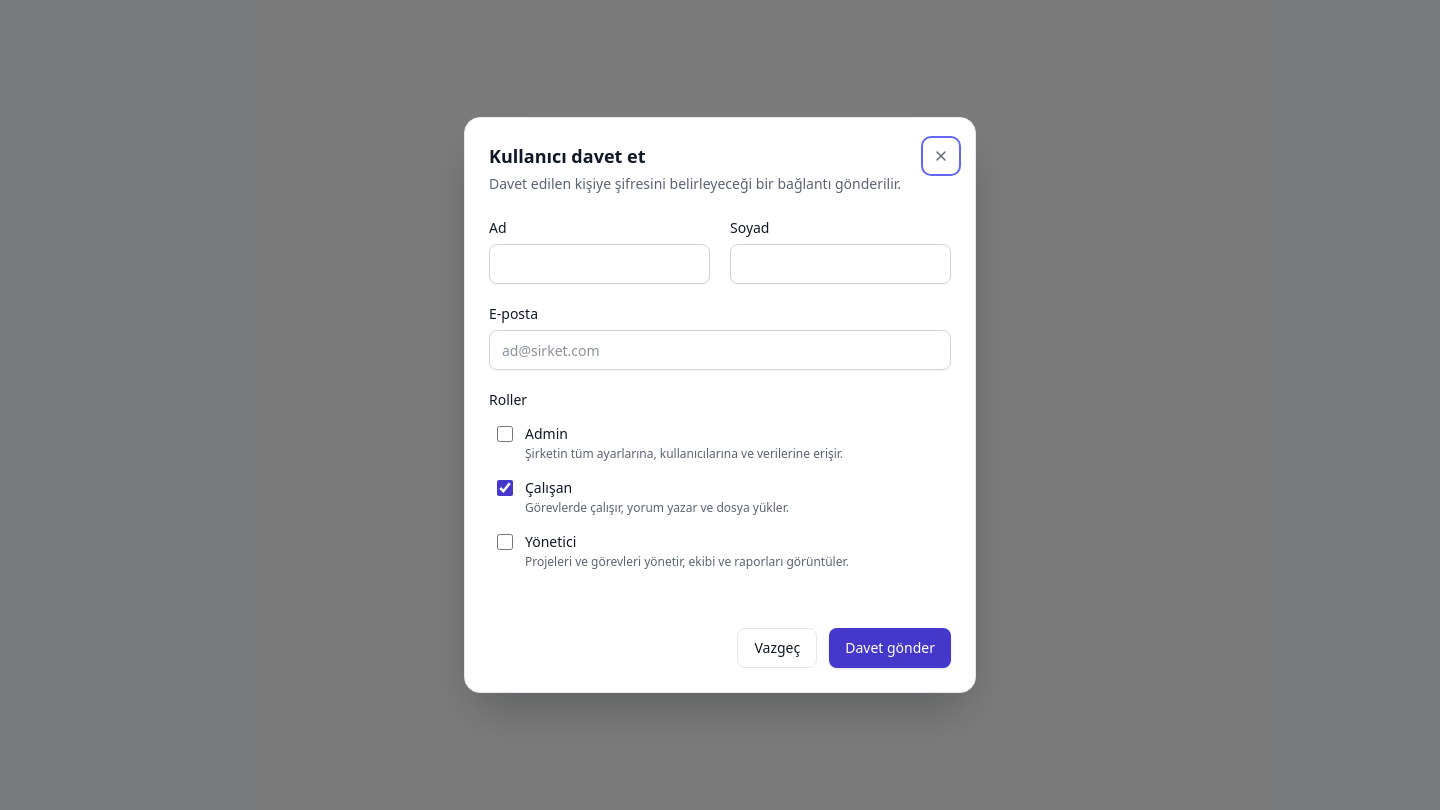
Test: InviteUserDialog › explains why an unverified inviter cannot invite
This screenshot has width=1440, height=810.
Type "Ayşe" into the field labelled "Ad" at (600, 264), box [489, 244, 710, 284]
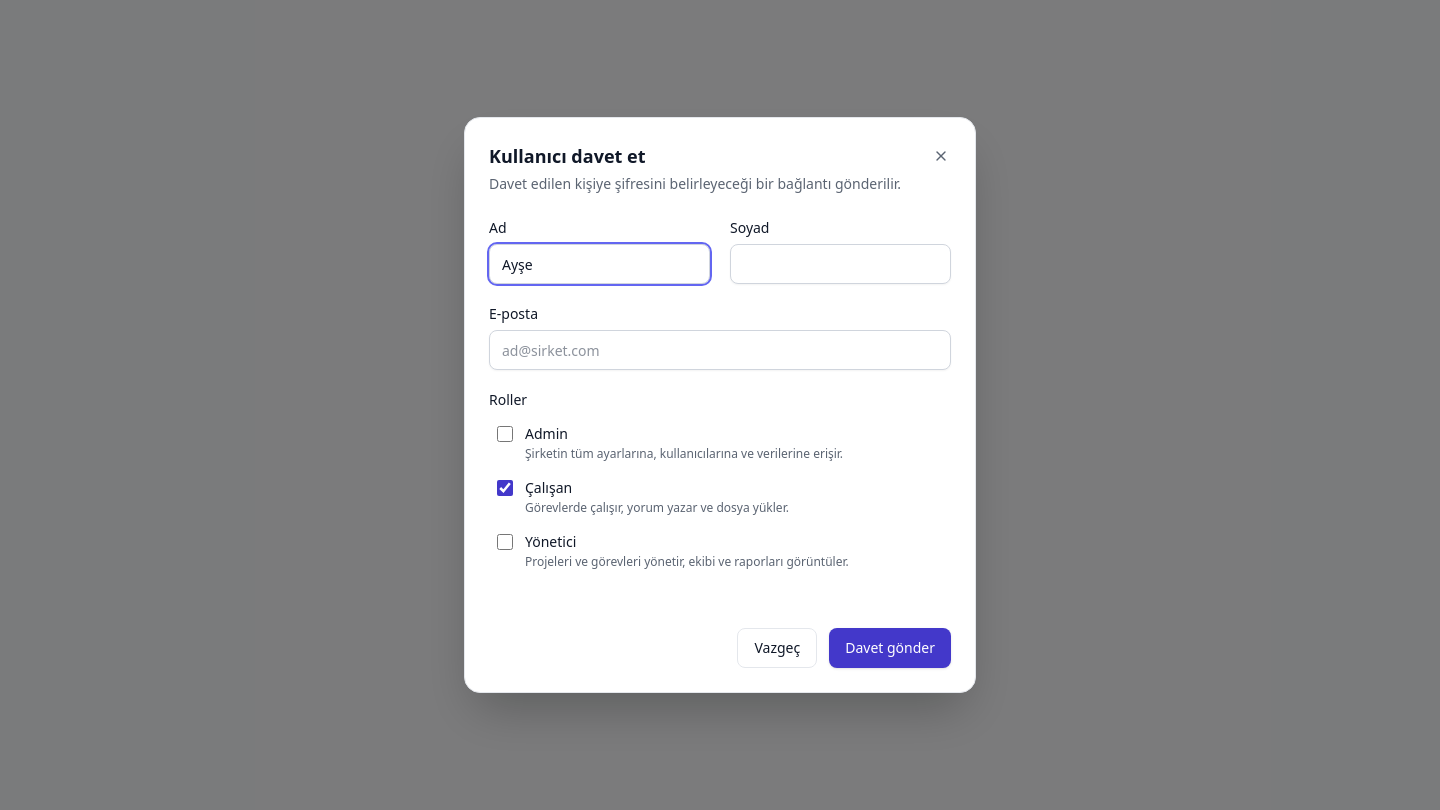
Type "Yılmaz" into the field labelled "Soyad" at (840, 264), box [730, 244, 951, 284]
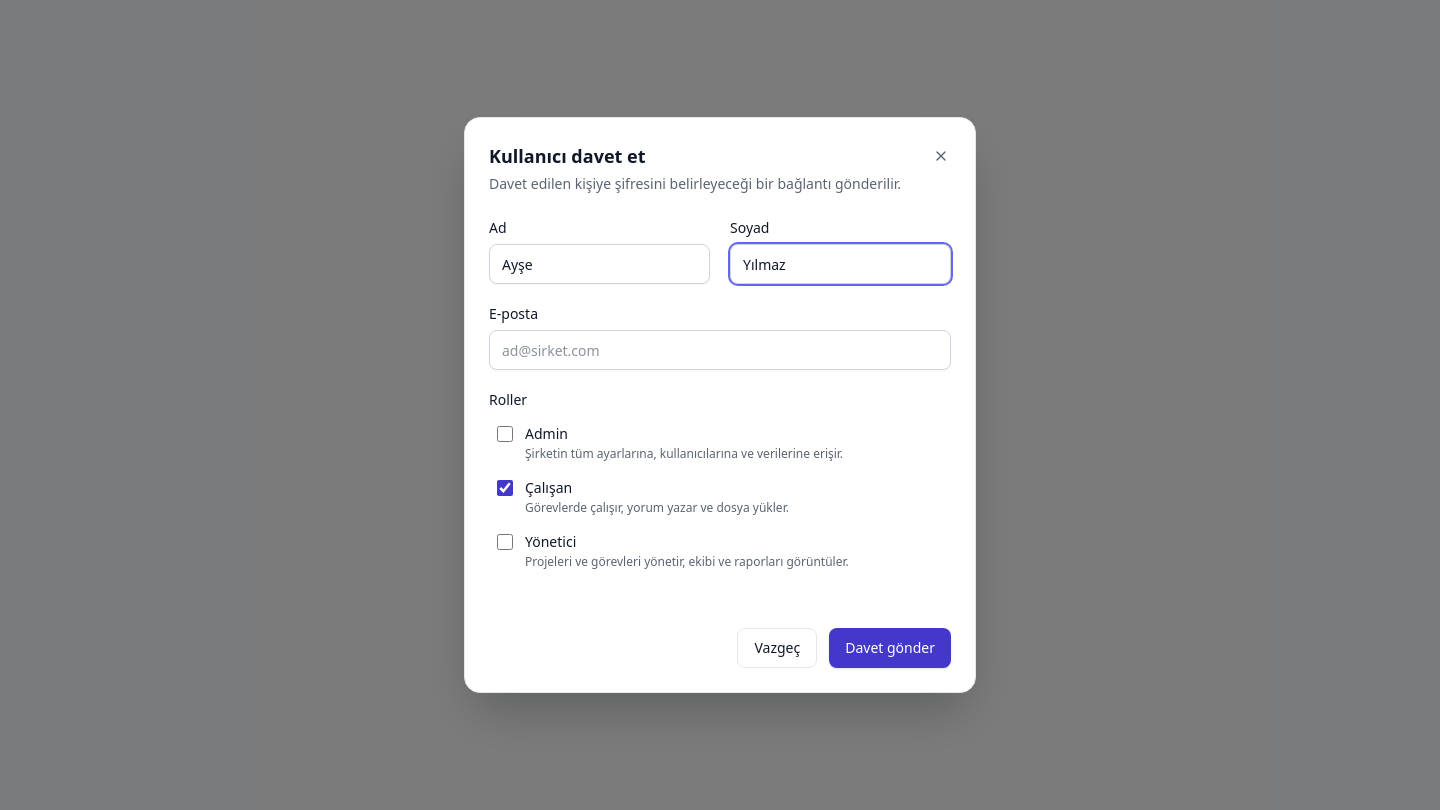
Type "ayse@abc.com" into the field labelled "E-posta" at (720, 350), box [489, 330, 951, 370]
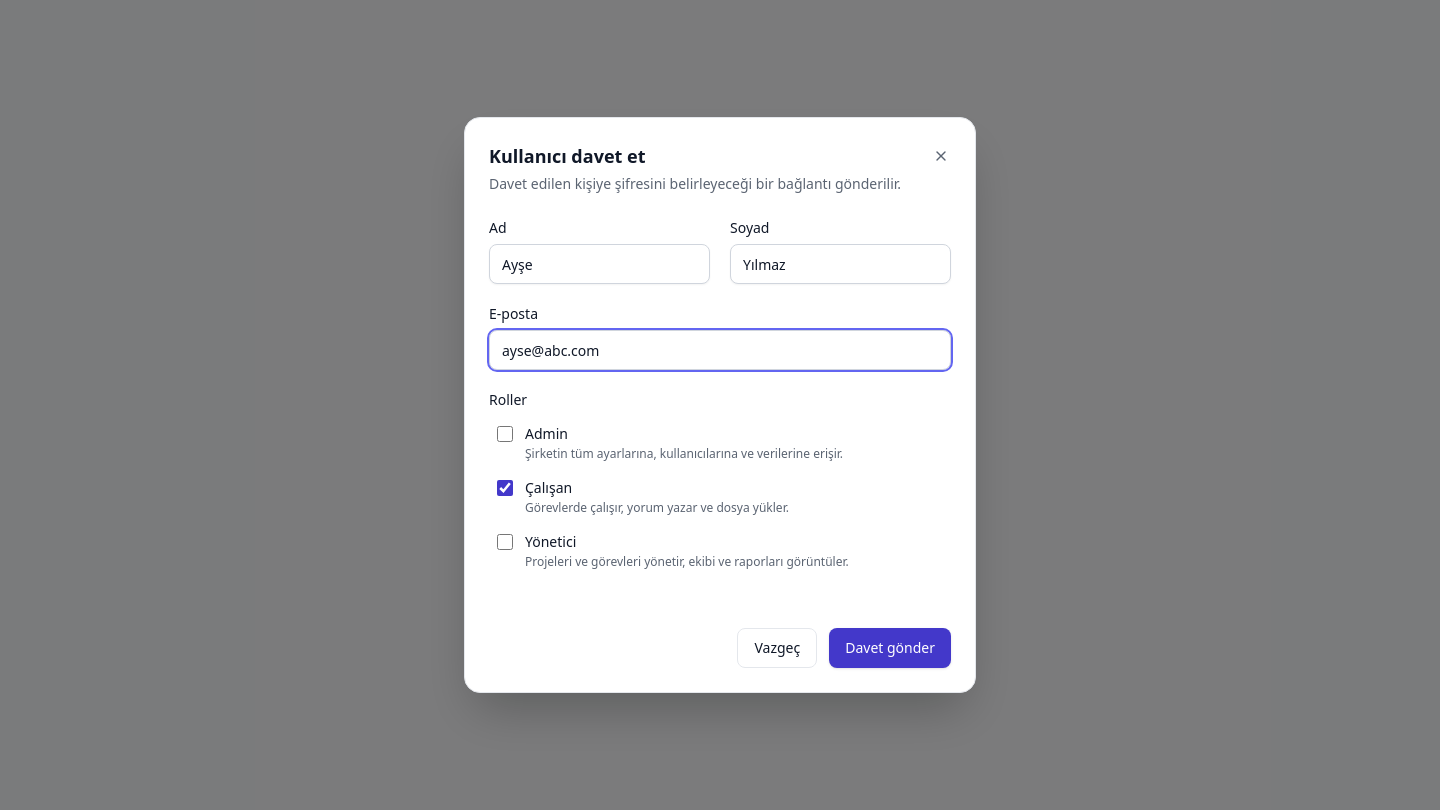
Click the button "Davet gönder" at (890, 648), box [829, 628, 951, 668]
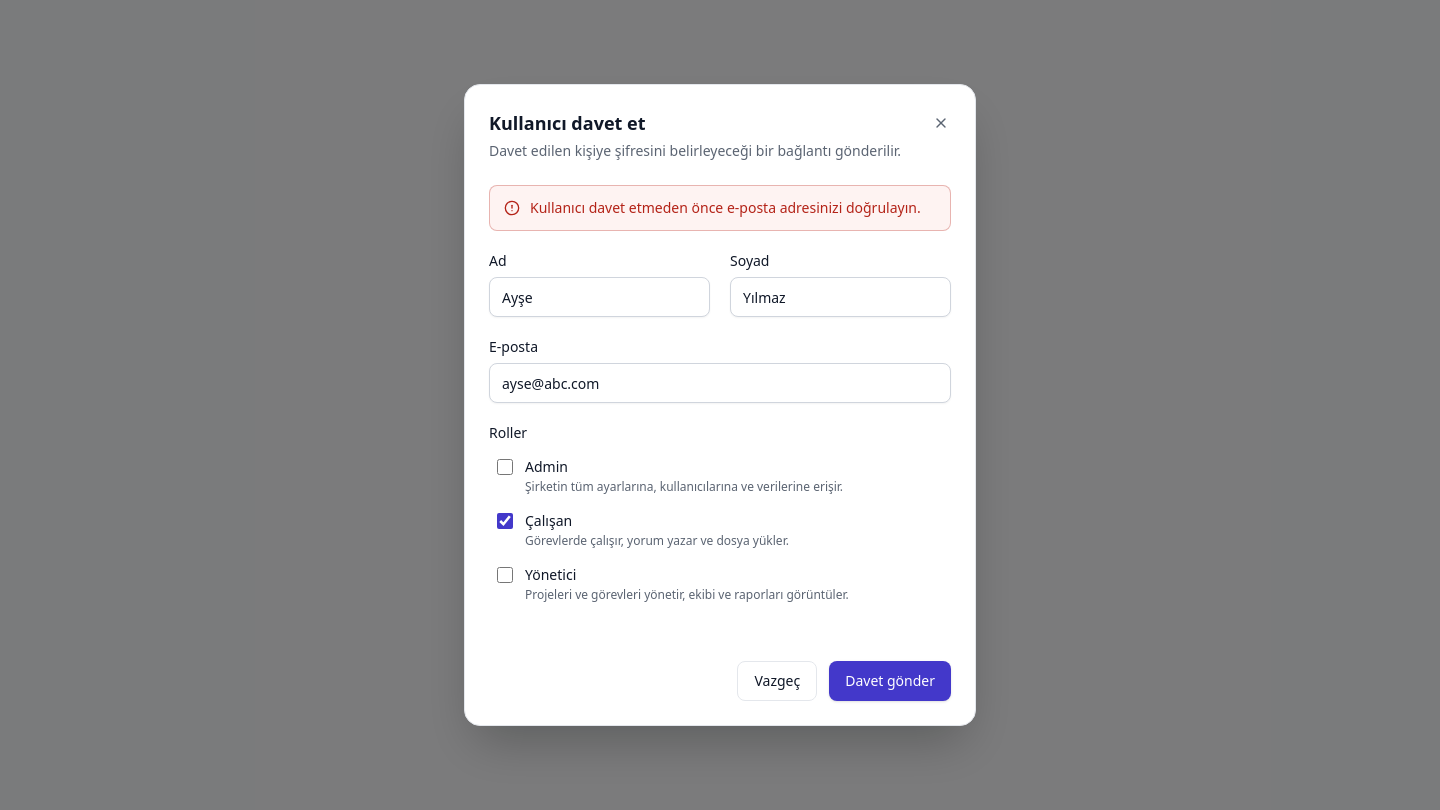
Expected: the message shows "e-posta adresinizi doğrulayın", [530, 198, 921, 217]
